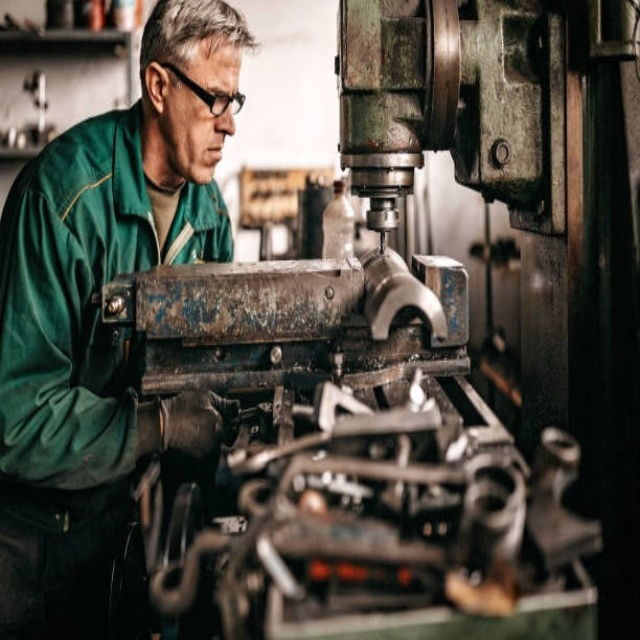Gafas: (158, 62, 245, 118)
Guantes: (143, 389, 237, 464)
Sin_mascara: (190, 135, 226, 177)
